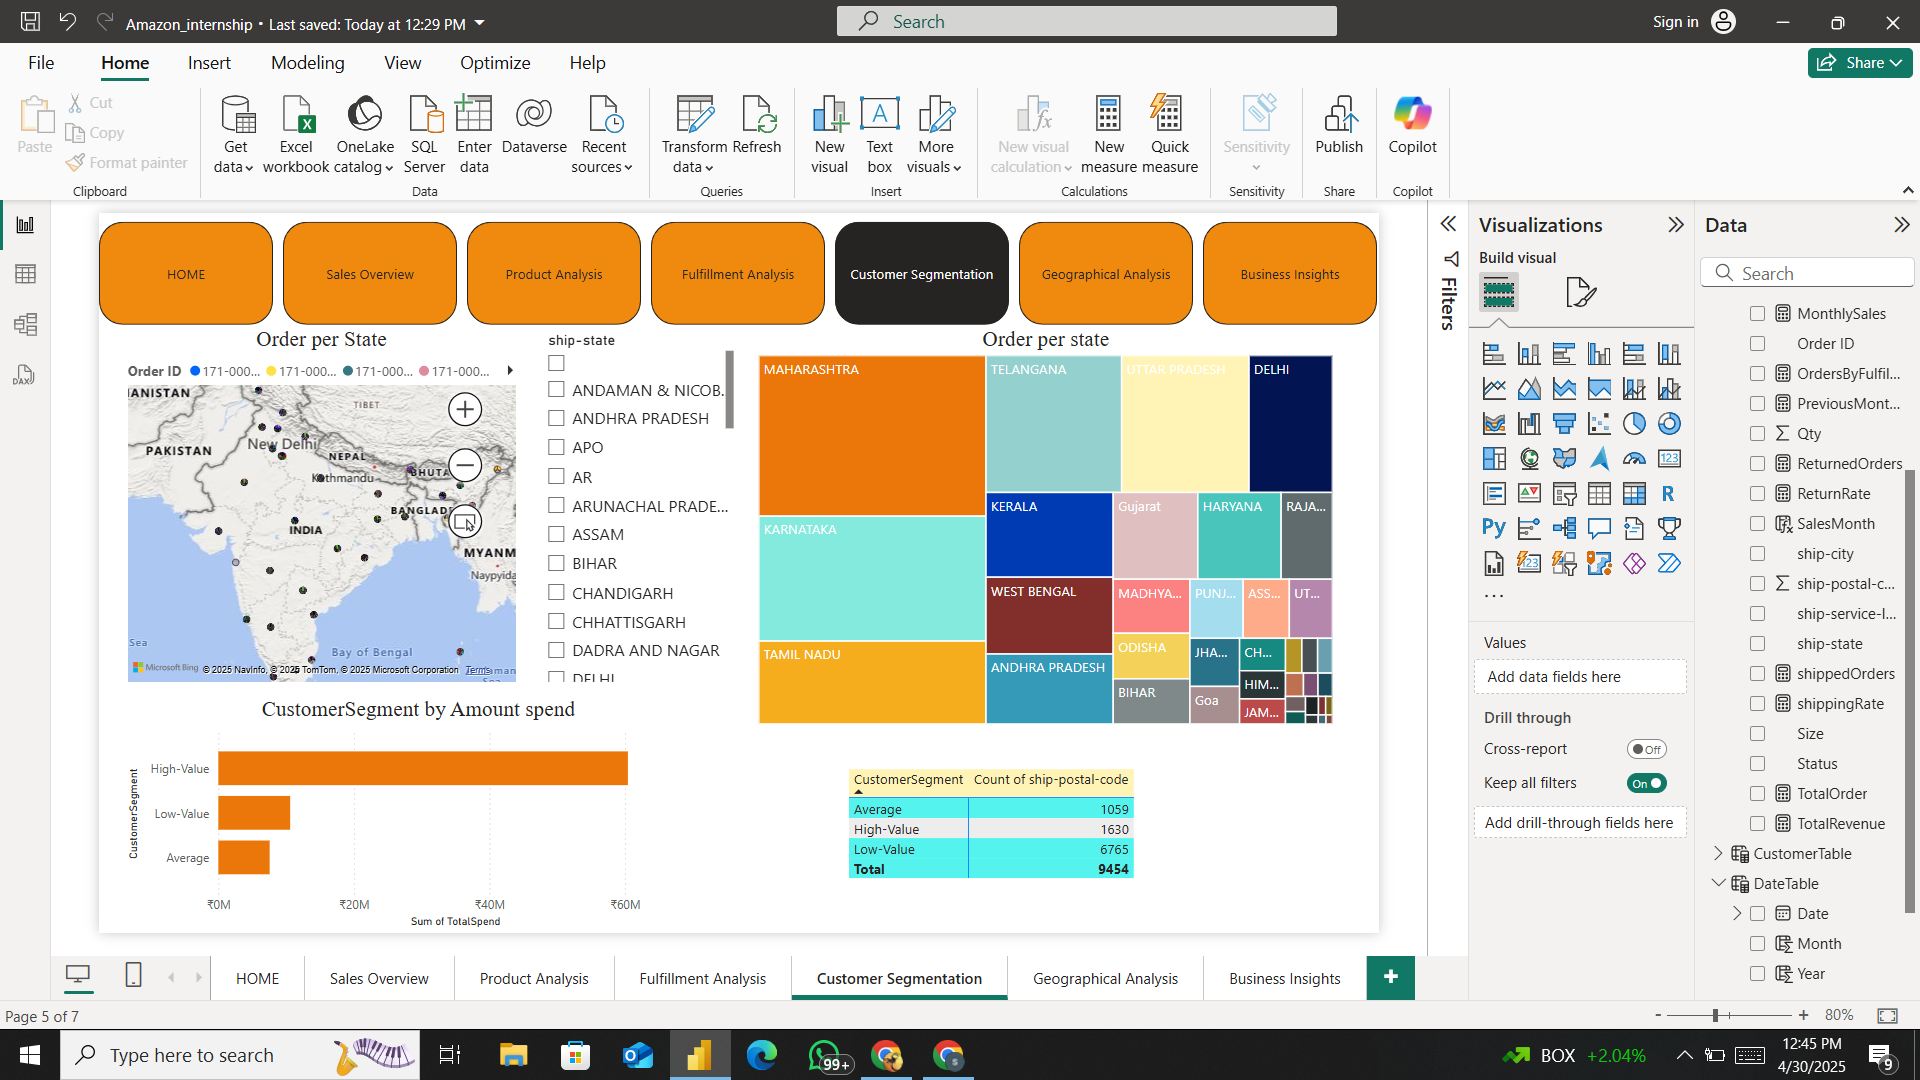

The dashboard page shown, as its layout file describes it:
{"tool":"powerbi","page":{"name":"Customer Segmentation","canvas":[1280,720],"ordinal":4},"visuals":[{"type":"map","title":"Order per State","fields":{"Category":["cleaned_amazon_sales.ship-state","cleaned_amazon_sales.ship-city"],"Series":["cleaned_amazon_sales.Order ID"]},"box":[23.8,113.8,397.5,360],"z":1000},{"type":"treemap","title":"Order per state","fields":{"Group":["cleaned_amazon_sales.ship-state"],"Values":["CountNonNull(cleaned_amazon_sales.Order ID)"]},"box":[655,113.8,583.8,402.5],"z":2000},{"type":"barChart","title":"CustomerSegment by Amount spend","fields":{"Category":["CustomerTable.CustomerSegment"],"Y":["Sum(CustomerTable.TotalSpend)"]},"box":[23.8,483.8,591.2,236.2],"z":3000},{"type":"slicer","fields":{"Values":["cleaned_amazon_sales.ship-state"]},"box":[436.2,113.8,203.8,360],"z":4000},{"type":"pivotTable","fields":{"Rows":["CustomerTable.CustomerSegment"],"Values":["CountNonNull(CustomerTable.ship-postal-code)"]},"box":[730,536.2,338.8,168.8],"z":5000},{"type":"pageNavigator","box":[0,8.3,1279.8,103.6],"z":5001}]}

Visuals, with their boxes on the page's 1280x720 design canvas (x1, y1, x2, y2). These are canvas units, not pixel positions in the 1920x1080 screenshot, which may show the page scaled, cropped or inside an application window:
"Order per State" map: (24, 114, 421, 474)
"Order per state" treemap: (655, 114, 1239, 516)
"CustomerSegment by Amount spend" barChart: (24, 484, 615, 720)
slicer - cleaned_amazon_sales.ship-state: (436, 114, 640, 474)
pivotTable - CustomerTable.CustomerSegment x CountNonNull(CustomerTable.ship-postal-code): (730, 536, 1069, 705)
pageNavigator: (0, 8, 1280, 112)
